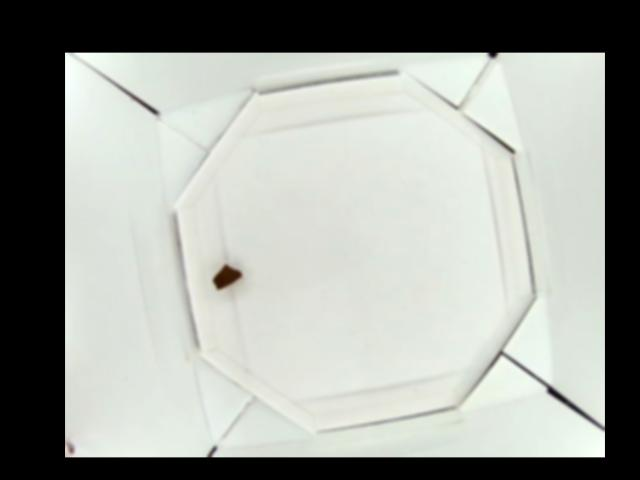China: (211, 263, 245, 292)
